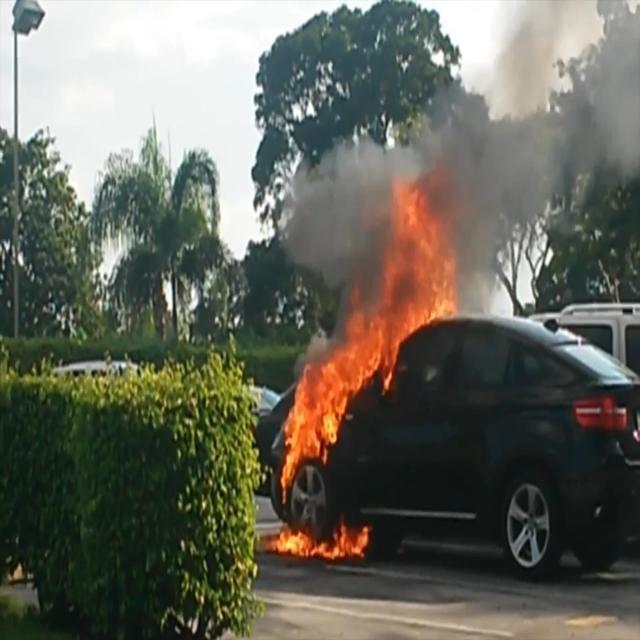fire: (264, 197, 456, 566)
